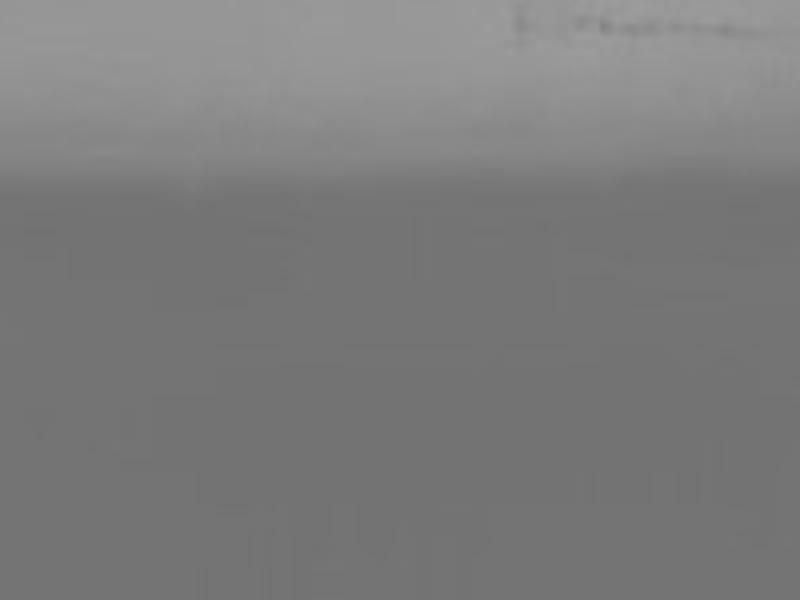defect: (663, 17, 704, 41), (616, 20, 661, 37), (565, 9, 589, 33), (713, 16, 739, 38), (511, 4, 527, 33), (598, 14, 613, 36)
